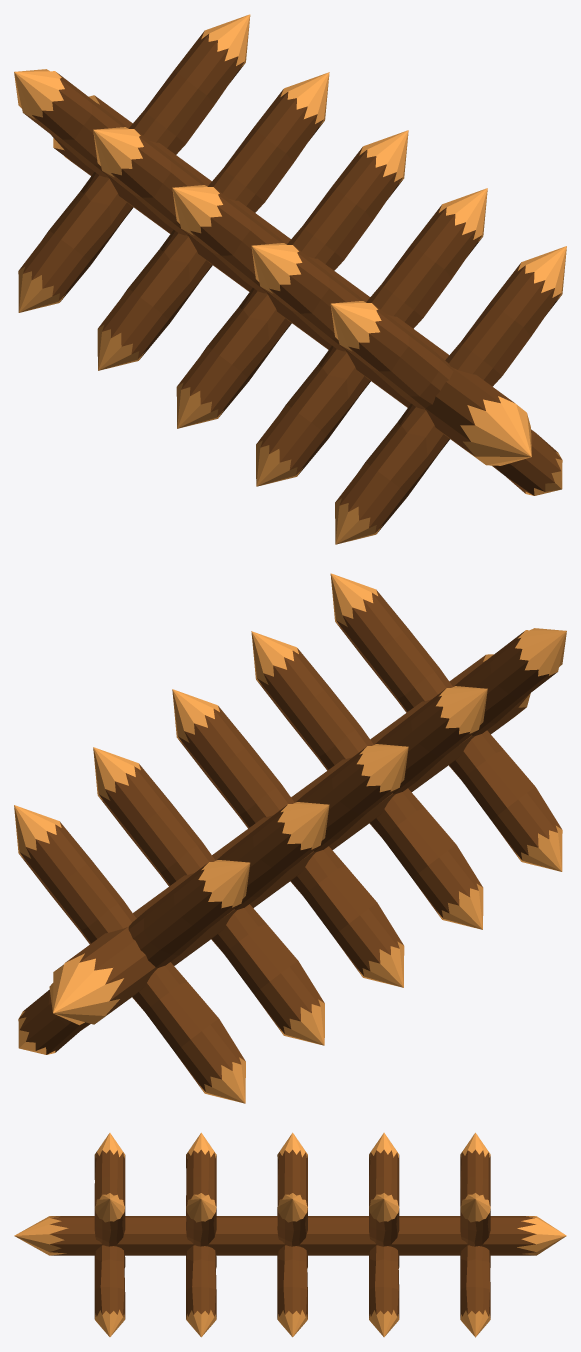
The model's file is blockade.fbx.
The picture shows the model from 3 angles, top to bottom: view 1: azimuth 30°, elevation 25°; view 2: azimuth 150°, elevation 25°; view 3: azimuth 270°, elevation 25°; orthographic projection. The views are drawn at different scales.
Parts seen in each view (by area): view 1: blockade; view 2: blockade; view 3: blockade.
Boxes of the visible parts, x1,y1,x2,y2 form: blockade: (14,14,566,544); blockade: (14,573,566,1103); blockade: (14,1132,566,1337).
Size of the model in its own units: 1356 by 1329 by 4758.
